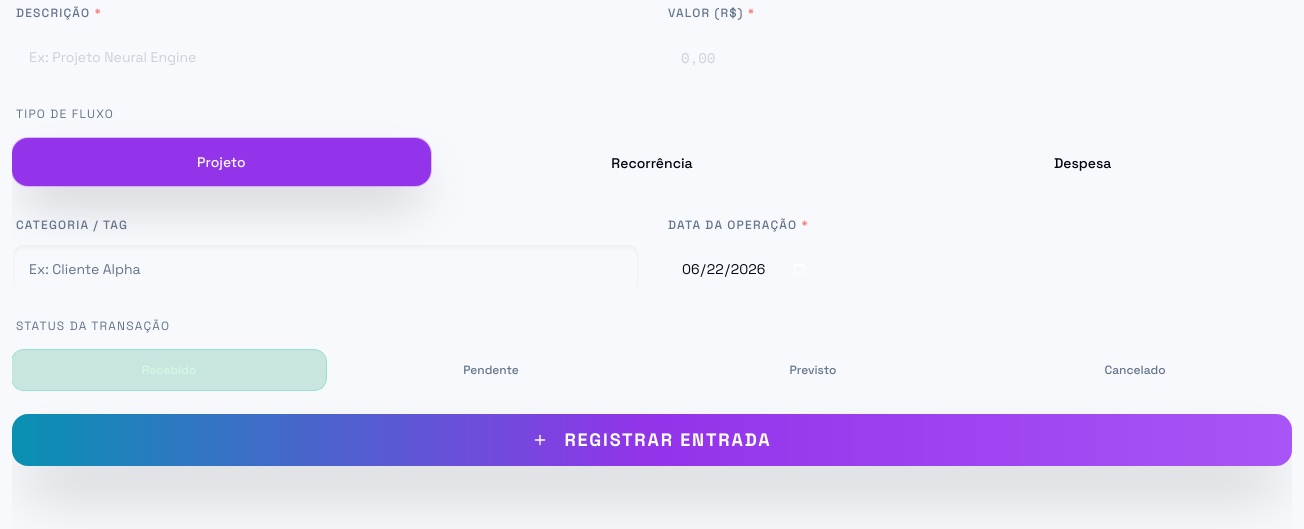
Test: AddTransactionForm › applies the BRL currency mask as the user types digits
Type "150050" into the field labelled "Valor (R$) *" at (978, 57), box top-left (664, 32), bottom-right (1292, 82)
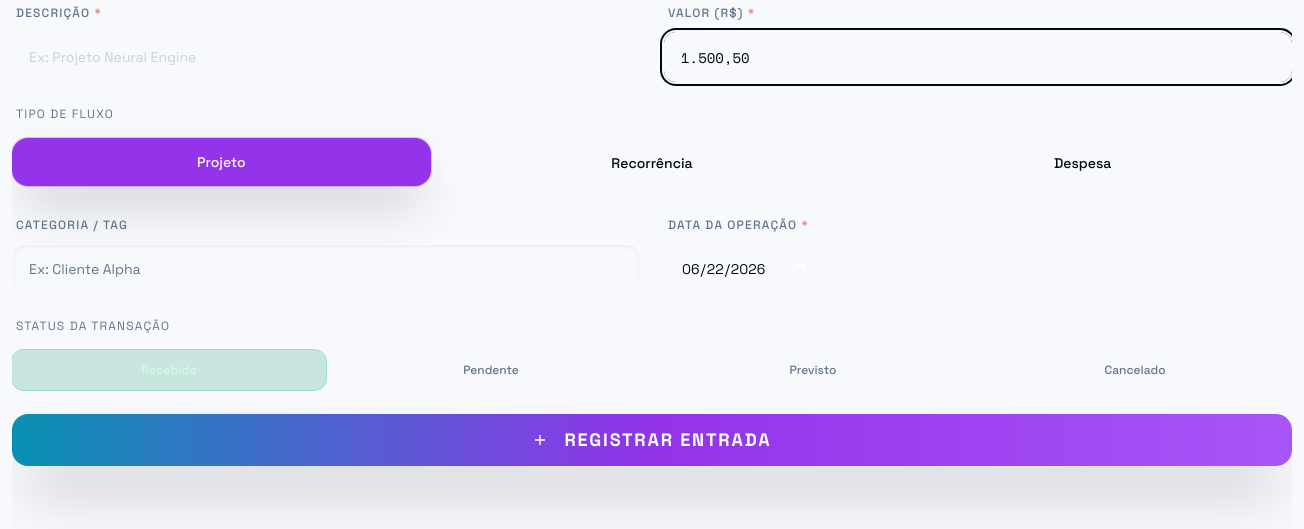
Now the field labelled "Valor (R$) *" holds "1.500,50", box top-left (664, 32), bottom-right (1292, 82)
